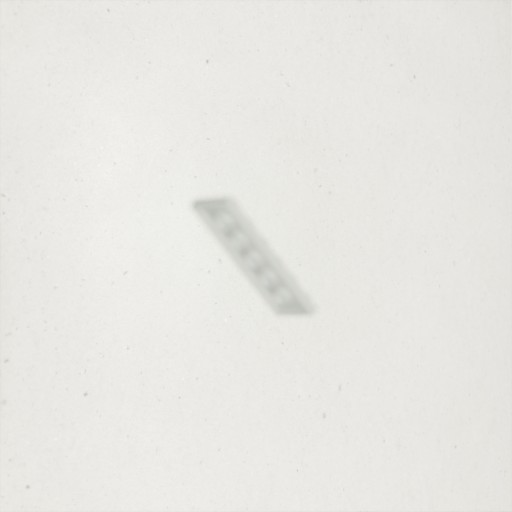lego: (189, 196, 319, 317)
